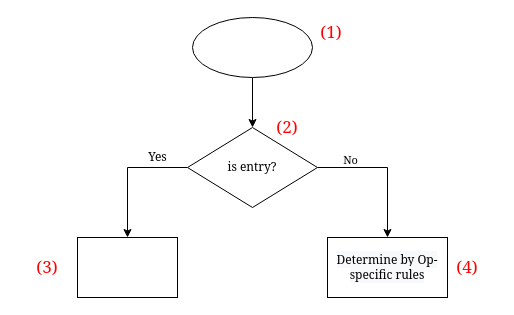
Some shapes in this 514 by 315 pixel diagram are drawn without their labels. Each missing label, with the centre of its shape:
"assign a default value" belongs at (x=127, y=267).
"Each tensor in forward data flow" belongs at (x=252, y=47).
